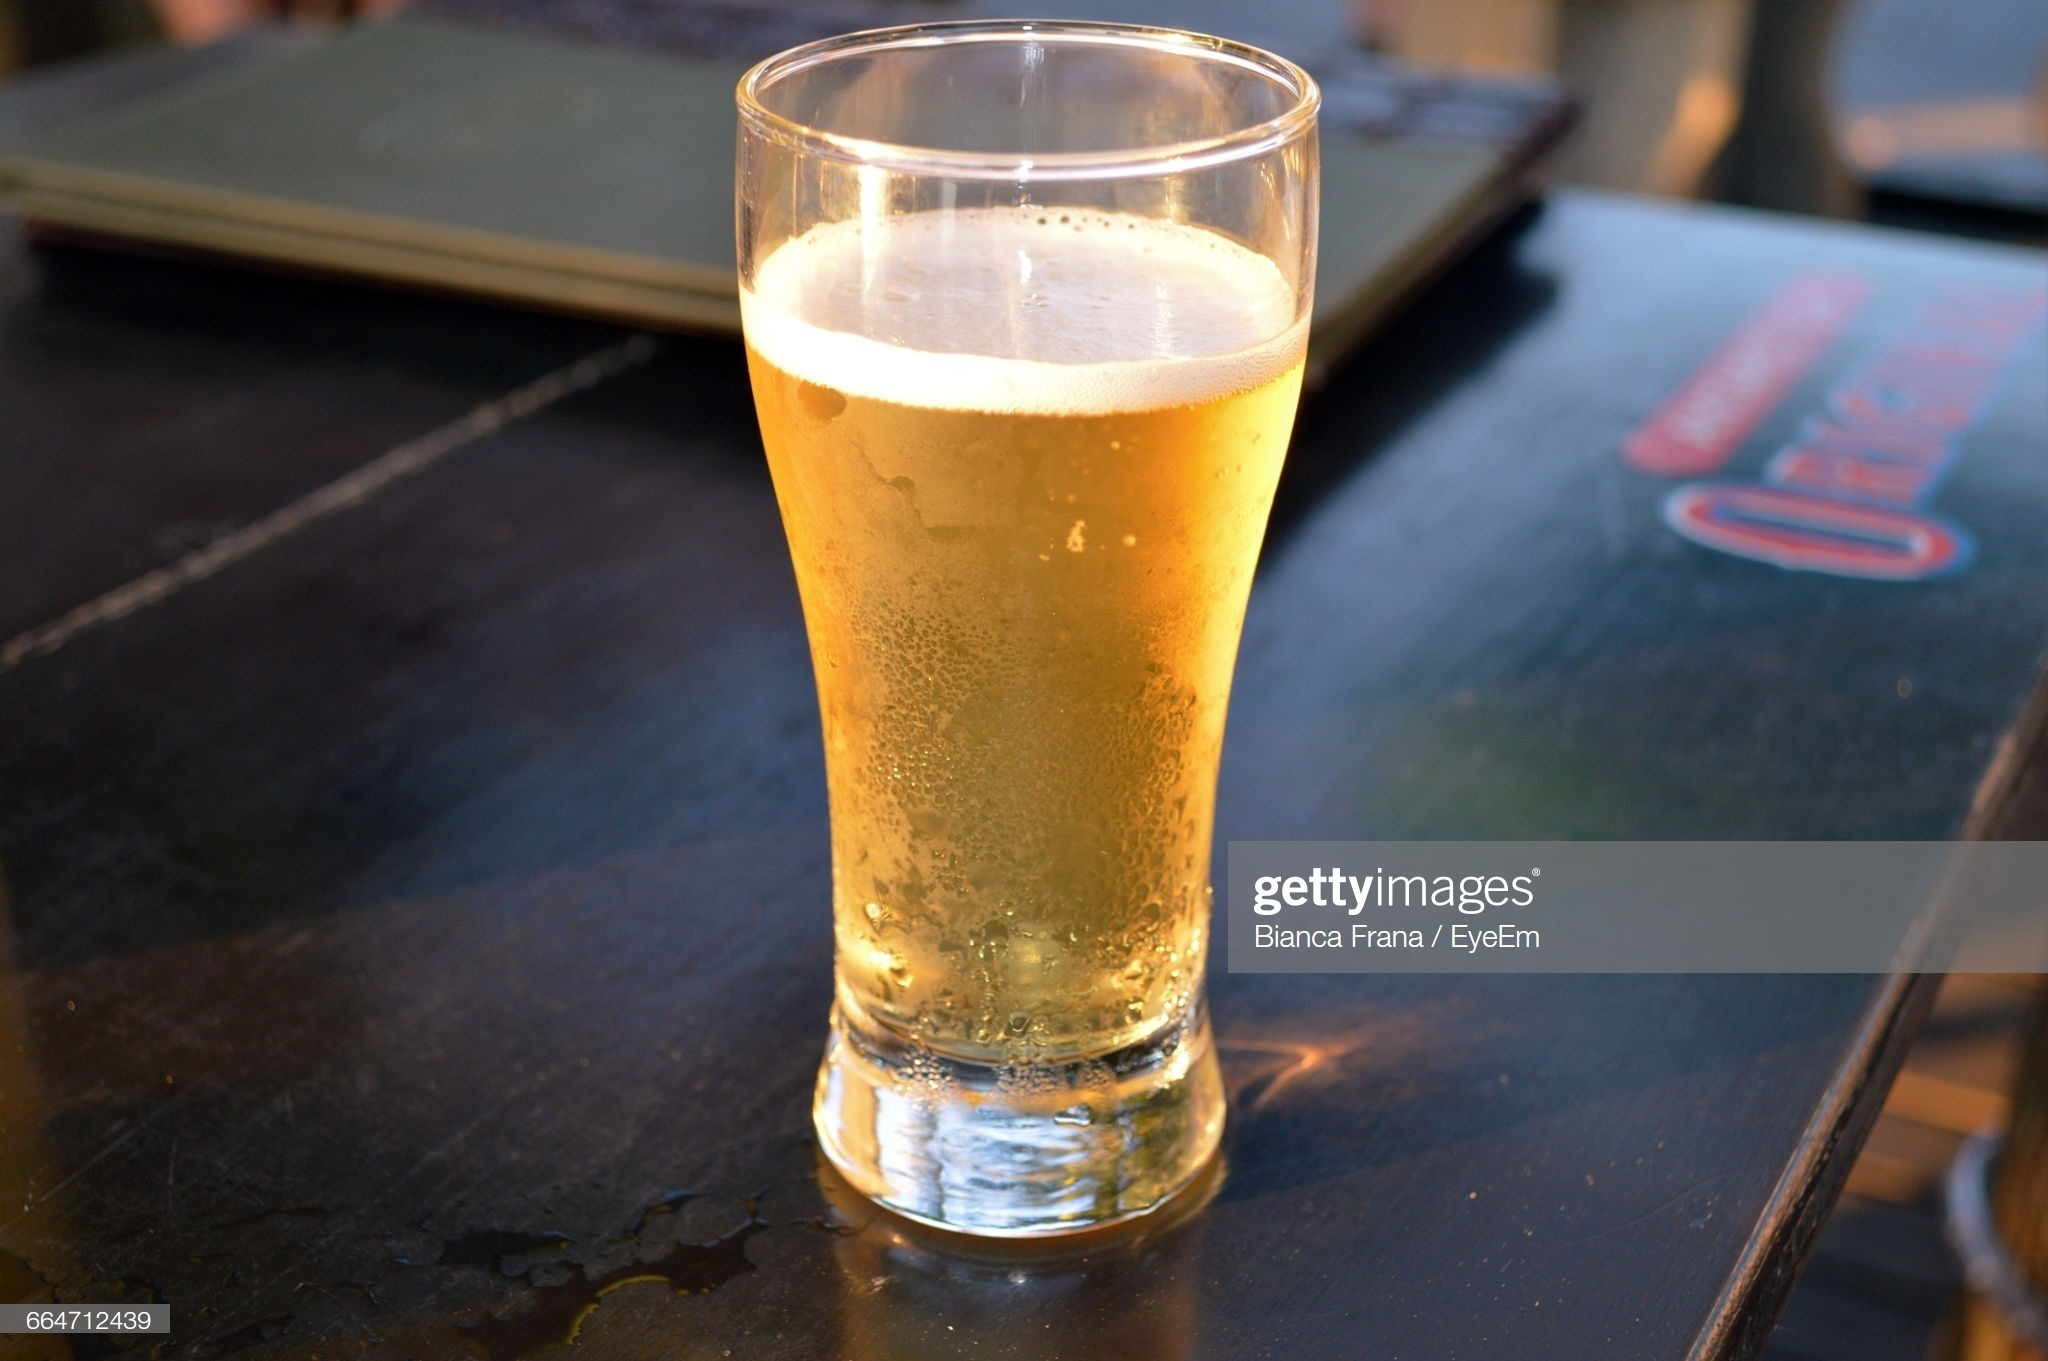whiskey: (729, 29, 1316, 1229)
